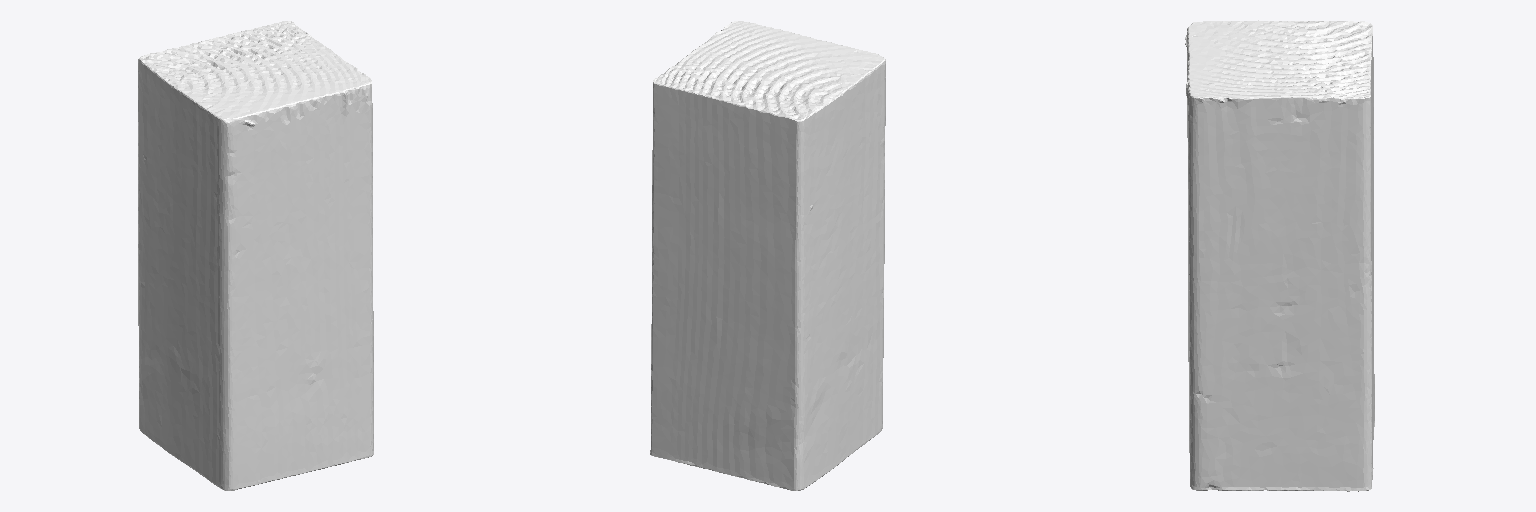
URDF robot description (golf_ball):
<robot name="golf_ball">
	<link name="base_link">
		<visual>
			<origin xyz="0.006528858552747081 0.03041729713329846 -0.02092653007258482" rpy="0.0 0.0 0.0" />
			<geometry>
				<mesh filename="058_golf_ball/google_16k/textured.obj" scale="1 1 1" />
			</geometry>
			<material name="texture">
				<color rgba="1.0 1.0 1.0 1.0" />
			</material>
		</visual>
		<collision>
			<origin xyz="0.006528858552747081 0.03041729713329846 -0.02092653007258482" rpy="0.0 0.0 0.0" />
			<geometry>
				<mesh filename="058_golf_ball/google_16k/textured_vhacd.obj" scale="1 1 1" />
			</geometry>
		</collision>
		<inertial>
			<mass value="0.046" />
			<inertia ixx="1e-3" ixy="0.0" ixz="0.0" iyy="1e-3" iyz="0.0" izz="1e-3" />
		</inertial>
	</link>
</robot>

--- Render facts (derived) ---
Views: 3 orthographic renders of the robot side by side, from view 1: azimuth 30°, elevation 25°; view 2: azimuth 150°, elevation 25°; view 3: azimuth 270°, elevation 25°.
Robot: golf_ball — 1 links, 0 joints (none); root link base_link; default pose: every joint at zero.
Visible links, largest first — view 1: base_link; view 2: base_link; view 3: base_link.
Link boxes in pixels (x1,y1,x2,y2): base_link: (138, 21, 373, 490); base_link: (650, 21, 885, 490); base_link: (1185, 20, 1374, 491).
Size in the robot's own frame: 0.0906 by 0.0899 by 0.206 metres.
1 mesh visuals loaded from 1 distinct referenced files (1 OBJ).